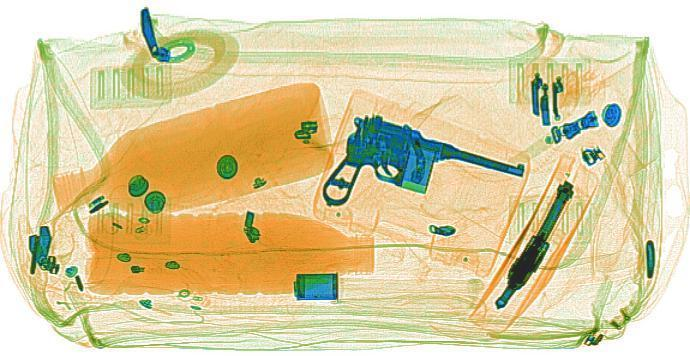Gun: (259, 109, 538, 237), (472, 179, 589, 311)
